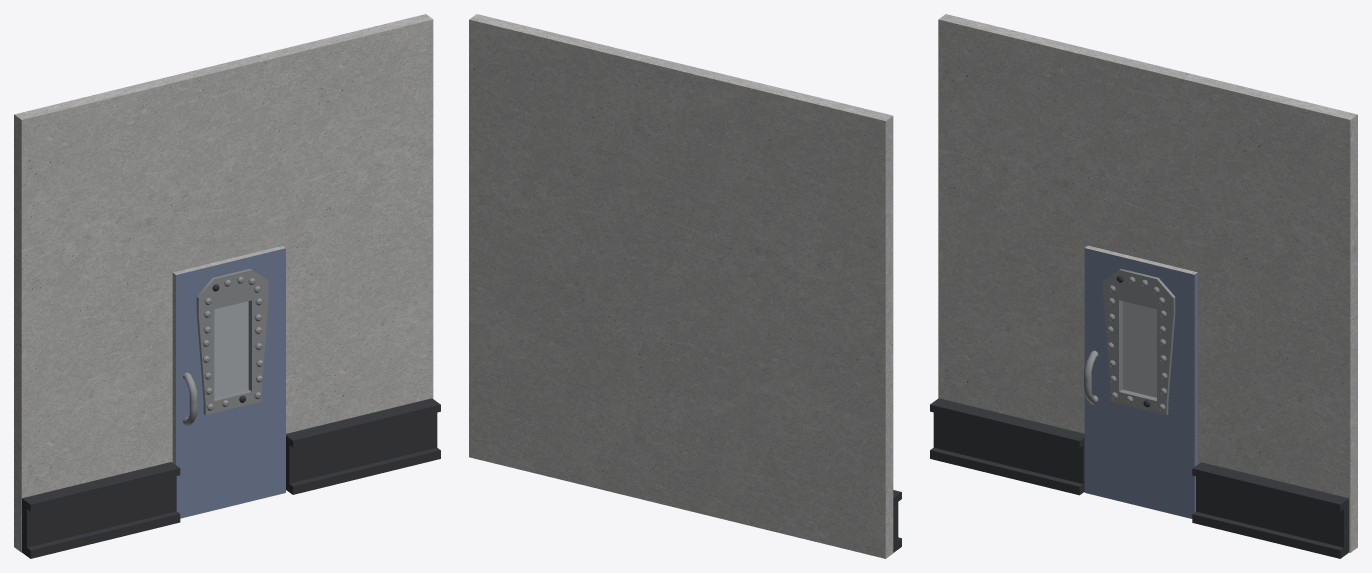
File: M_Door_Wall.fbx
The picture shows the model from 3 angles, left to right: view 1: azimuth 30°, elevation 25°; view 2: azimuth 150°, elevation 25°; view 3: azimuth 330°, elevation 25°; orthographic projection.
Parts seen in each view (by area): view 1: pasted__polySurface64; view 2: pasted__polySurface64; view 3: pasted__polySurface64.
Boxes of the visible parts, x1,y1,x2,y2 form: pasted__polySurface64: (14,14,440,558); pasted__polySurface64: (469,14,901,558); pasted__polySurface64: (930,14,1357,558).
Bounding box in the file's own units: 399 × 401 × 34.16.
